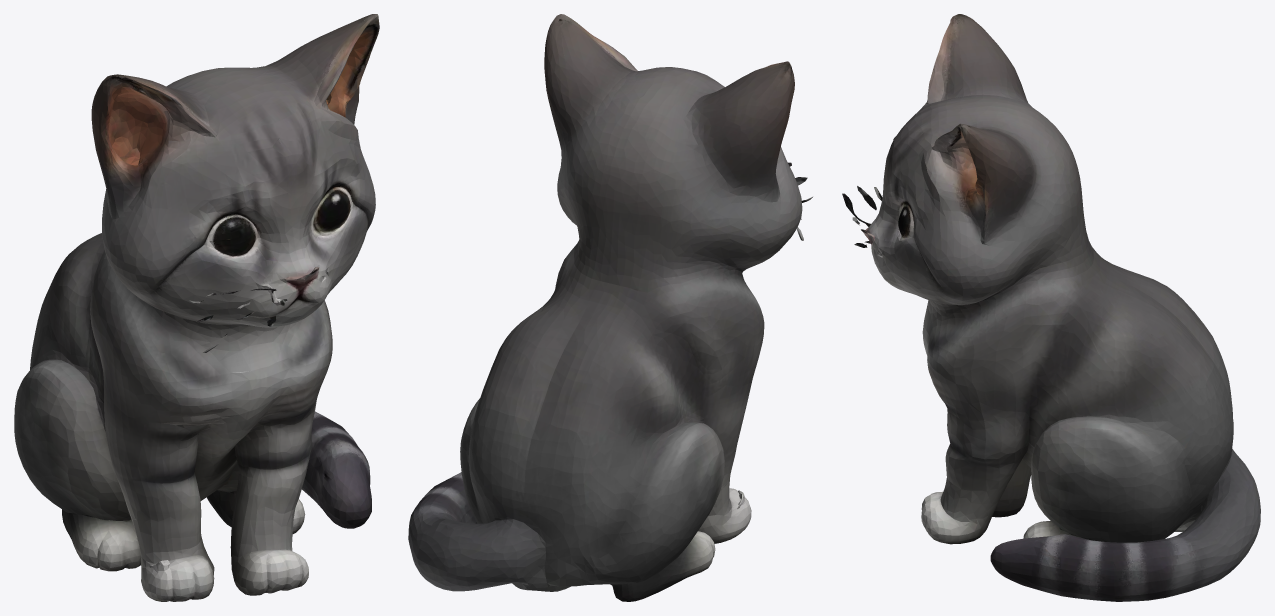
File: cat.glb
3 renders of one model, left to right at view 1: azimuth 30°, elevation 25°; view 2: azimuth 150°, elevation 25°; view 3: azimuth 270°, elevation 25°, orthographic. The views are drawn at different scales.
Parts seen in each view (by area): view 1: geometry_0; view 2: geometry_0; view 3: geometry_0.
Part boxes in pixels (left/top/right/bottom): geometry_0: left=14, top=14, right=379, bottom=601; geometry_0: left=408, top=14, right=812, bottom=601; geometry_0: left=842, top=14, right=1260, bottom=601.
Size of the model in its own units: 0.6341 by 0.9996 by 0.8193.
Materials: 1 (1 with a texture image).
